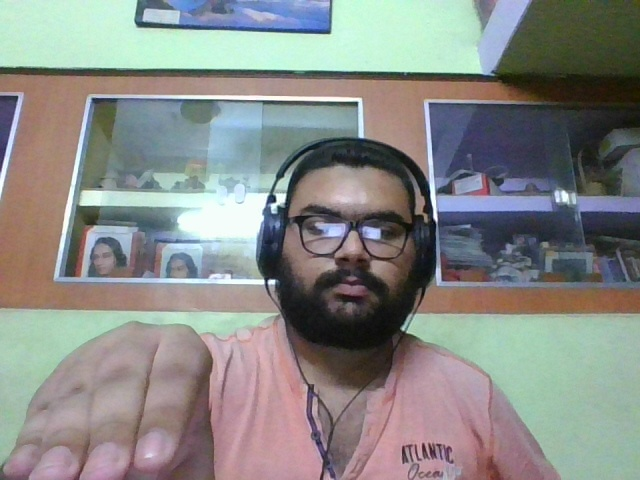no: (4, 320, 219, 480)
